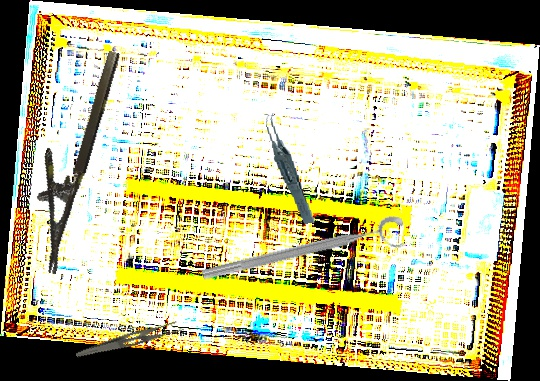Dressing Forceps: (75, 314, 185, 370)
Fixation Ring: (199, 213, 410, 298)
Needle Holder: (12, 41, 123, 275)
Tissue Forceps: (264, 109, 316, 228)
